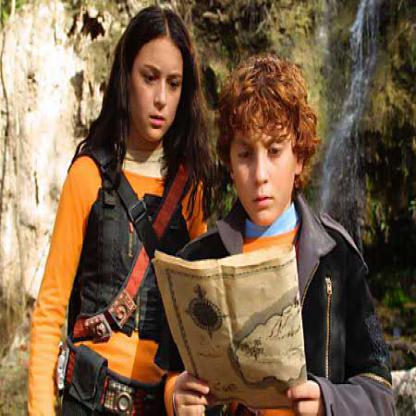face: (231, 65, 298, 227), (128, 18, 186, 143)
